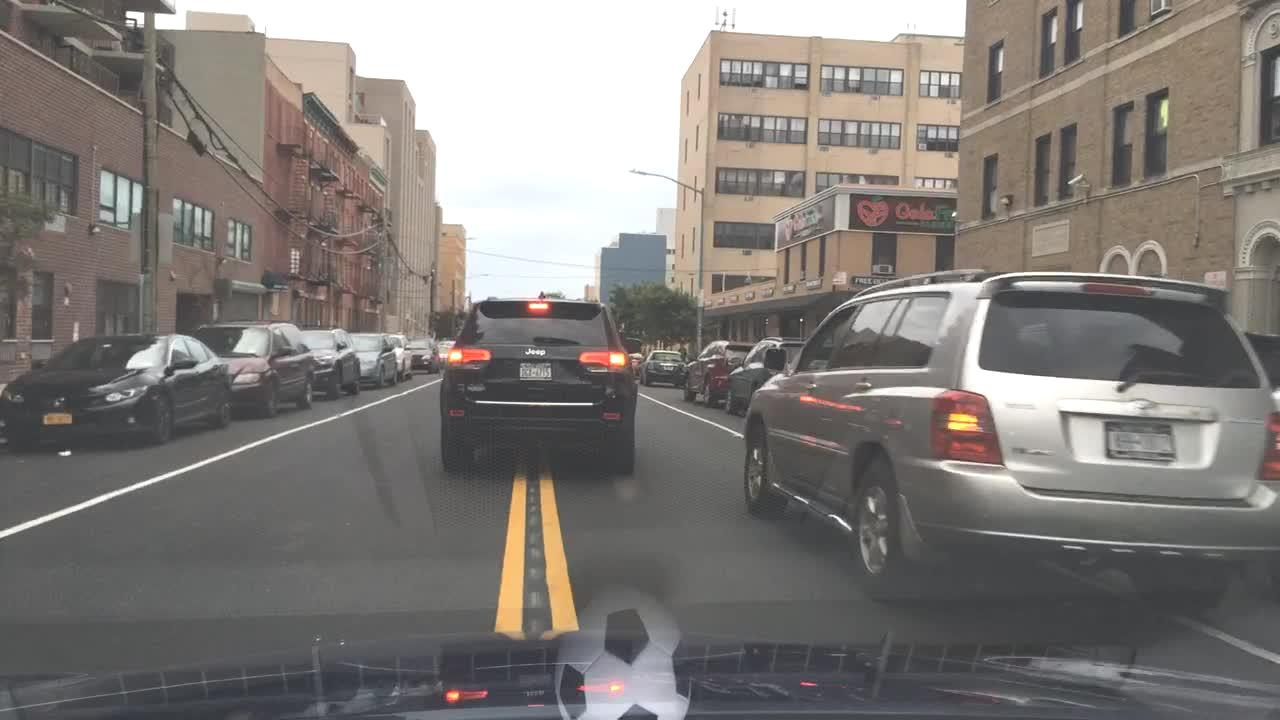jeep: (520, 341, 552, 364)
